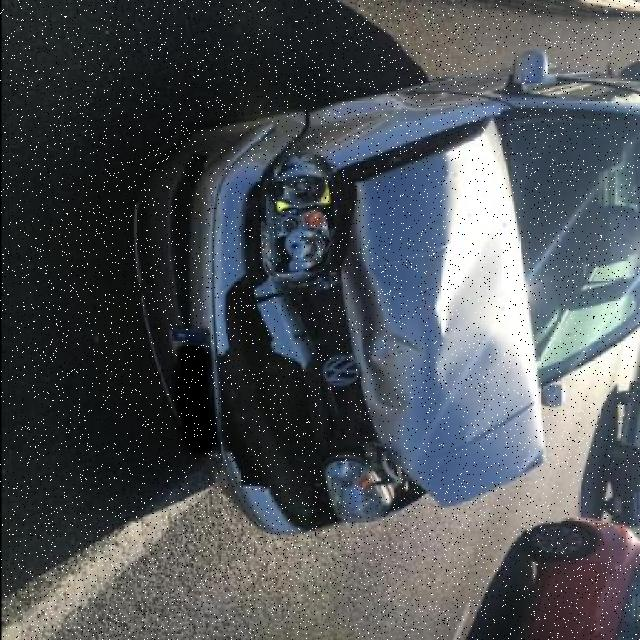damage: (336, 117, 542, 506), (212, 274, 342, 535)
